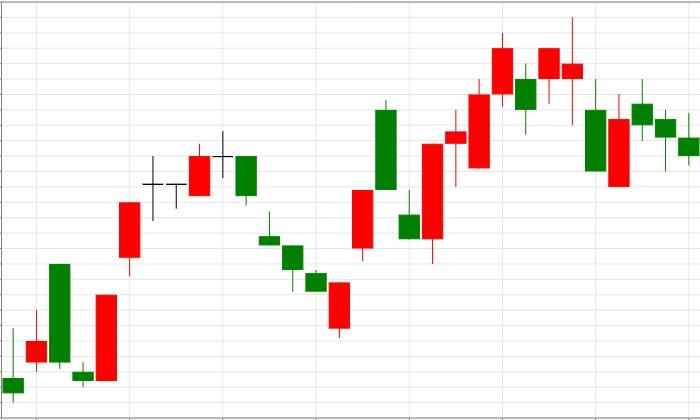evening_star_fall: (73, 131, 257, 388)
